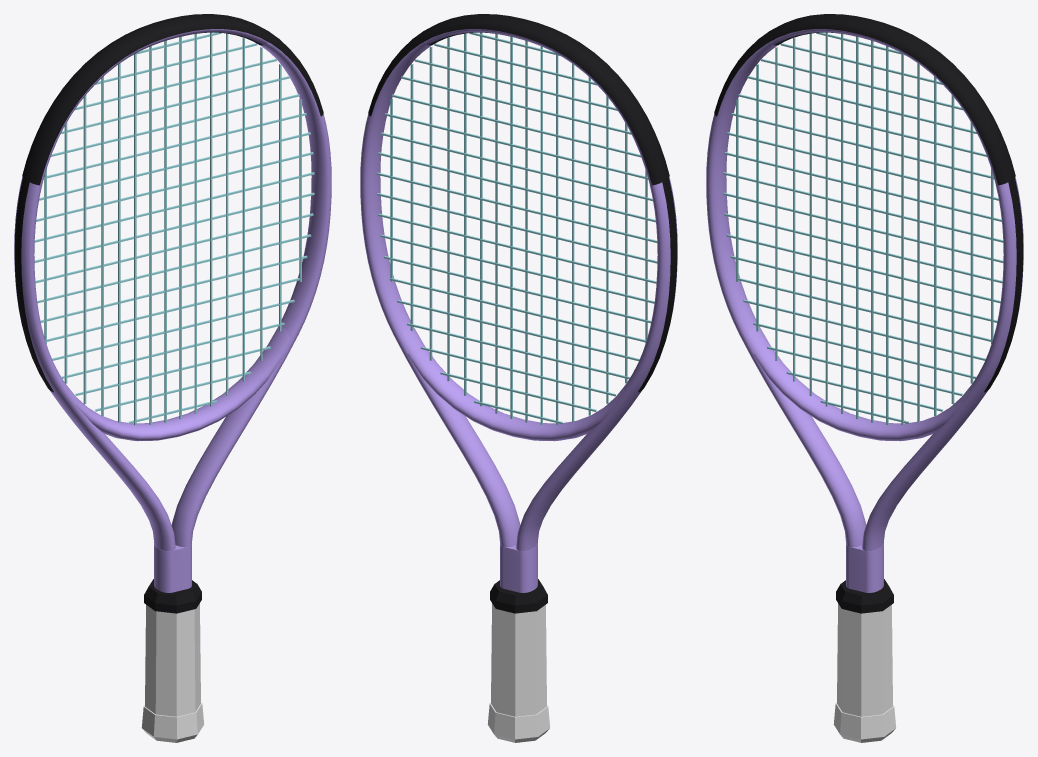
Rendered from head-instinct-junior-21.glb.
3 views of the same model, side by side, from view 1: azimuth 30°, elevation 25°; view 2: azimuth 150°, elevation 25°; view 3: azimuth 330°, elevation 25° (orthographic).
Visible parts, largest first — view 1: frame, strings_mains, strings_crosses, bumper, grip, butt_cap, grommets, collar; view 2: frame, strings_mains, strings_crosses, bumper, grip, butt_cap, grommets, collar; view 3: frame, strings_mains, strings_crosses, bumper, grip, butt_cap, grommets, collar.
Boxes of the visible parts, <box> form: frame: <box>14,29,331,592</box>; strings_mains: <box>44,32,301,425</box>; strings_crosses: <box>34,32,314,423</box>; bumper: <box>22,14,323,185</box>; grip: <box>145,603,200,716</box>; butt_cap: <box>141,702,204,742</box>; grommets: <box>14,178,53,392</box>; collar: <box>144,579,201,613</box>; frame: <box>360,29,677,592</box>; strings_mains: <box>390,32,647,424</box>; strings_crosses: <box>376,32,657,424</box>; bumper: <box>368,14,669,185</box>; grip: <box>491,603,546,716</box>; butt_cap: <box>487,702,550,742</box>; grommets: <box>638,178,677,392</box>; collar: <box>490,579,547,613</box>; frame: <box>706,29,1023,592</box>; strings_mains: <box>736,32,993,425</box>; strings_crosses: <box>723,32,1003,423</box>; bumper: <box>714,14,1015,185</box>; grip: <box>837,603,892,716</box>; butt_cap: <box>833,702,896,742</box>; grommets: <box>984,178,1023,392</box>; collar: <box>836,579,893,613</box>.
Bounding box in the file's own units: 0.2449 × 0.5337 × 0.0396.
